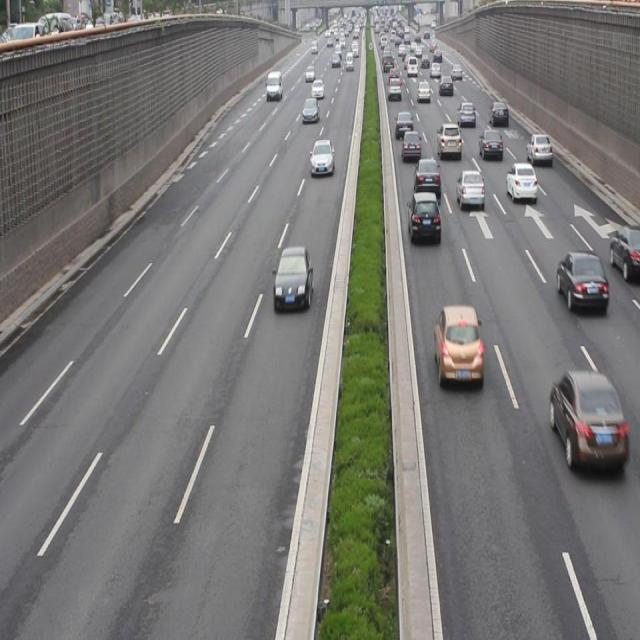car: (549, 369, 624, 474), (432, 306, 482, 389), (556, 250, 606, 312), (272, 248, 312, 309), (608, 224, 640, 278), (406, 194, 440, 244), (505, 162, 536, 203), (456, 170, 484, 212), (413, 158, 440, 199), (435, 122, 461, 158), (524, 134, 550, 165), (310, 140, 333, 173), (477, 129, 502, 158), (401, 129, 420, 158), (396, 110, 412, 138), (489, 102, 507, 126), (457, 102, 474, 126)
